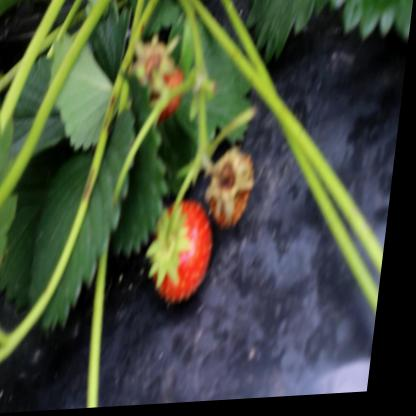ripe: (154, 200, 226, 310), (152, 68, 194, 125)
unripe: (209, 148, 265, 232)
